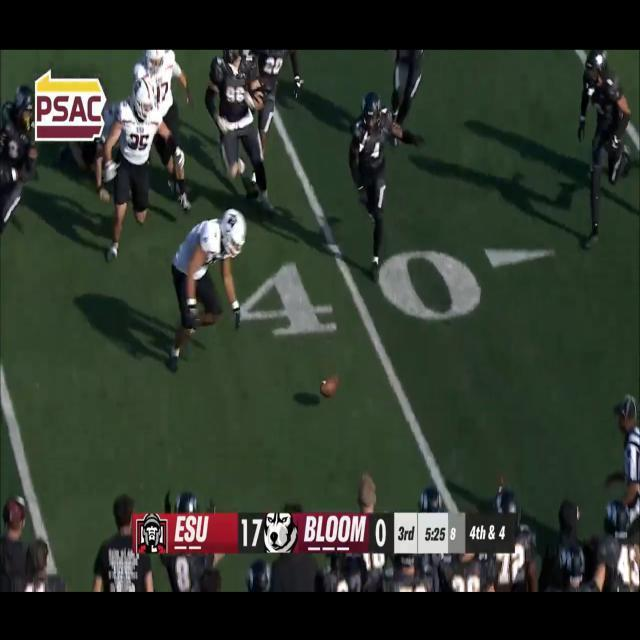football: (316, 372, 344, 399)
